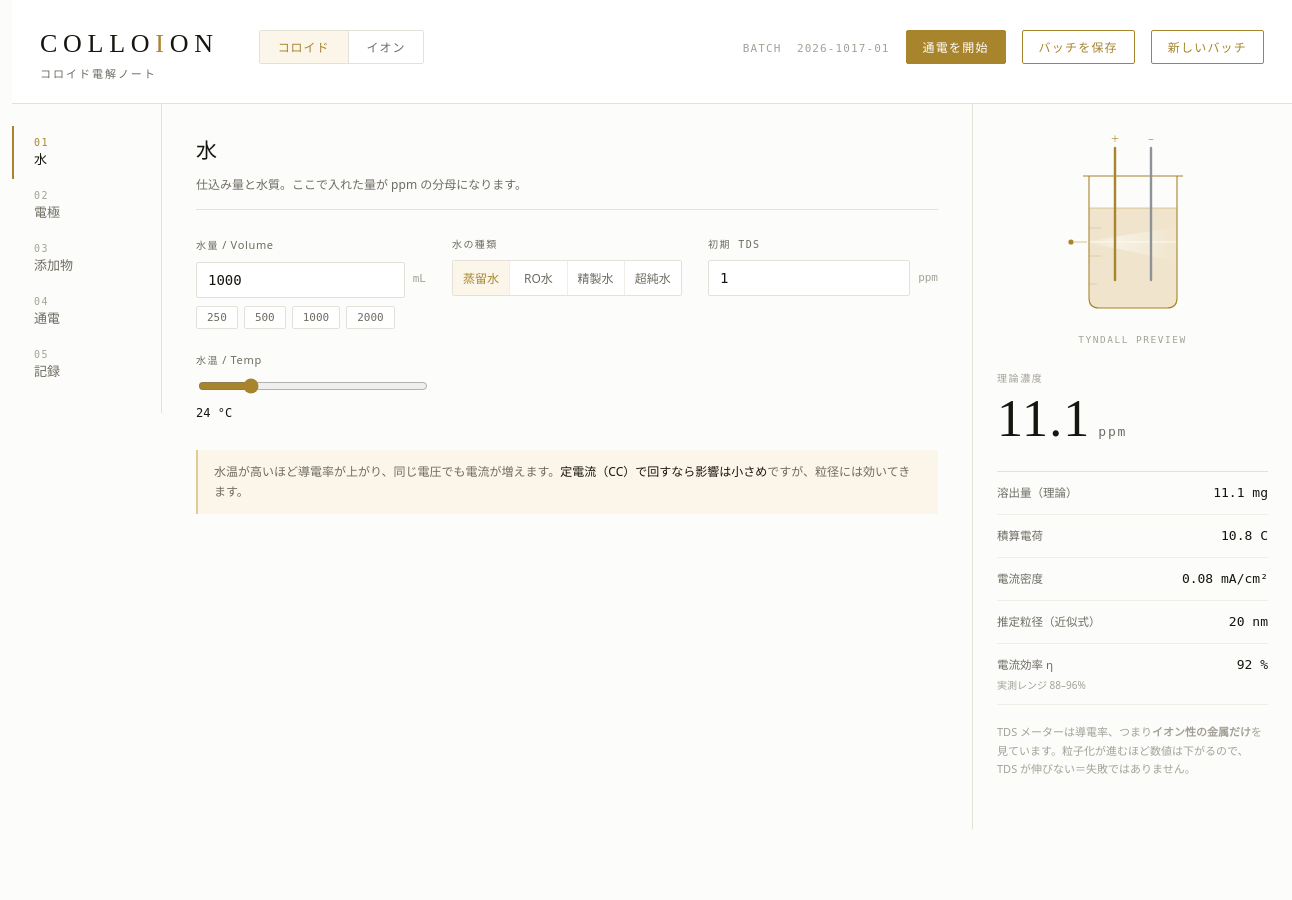
Test: App › 還元剤にコーンシロップを選ぶと、ブドウ糖換算の説明が出てモル比が出る
Click the tab "03 添加物" at (86, 258), box x1=12 y1=232 x2=161 y2=285
(page scrolled)
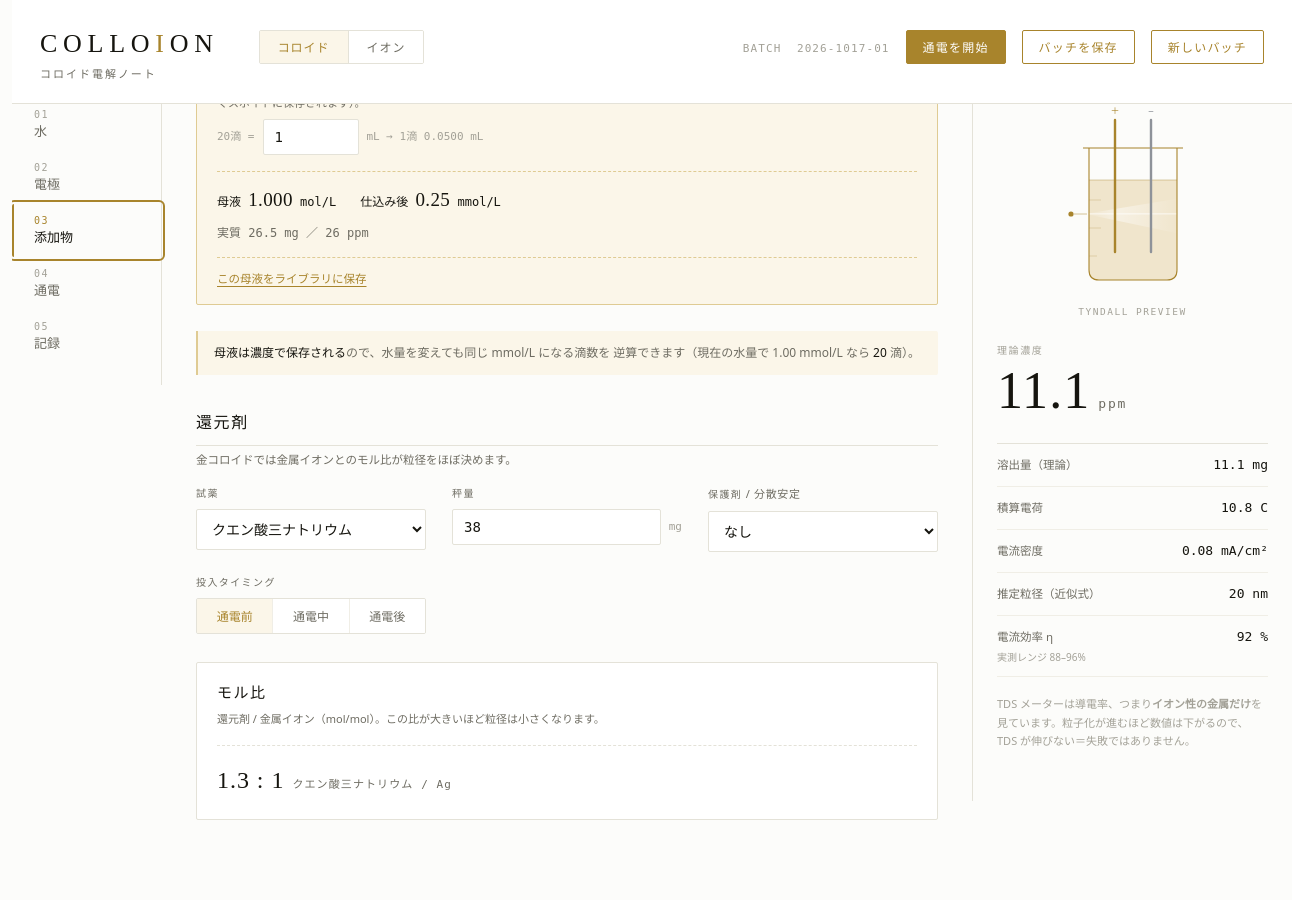
Select "コーンシロップ（Karo ライト）" in the dropdown labelled "試薬" at (311, 530), box x1=196 y1=509 x2=426 y2=550
(page scrolled)
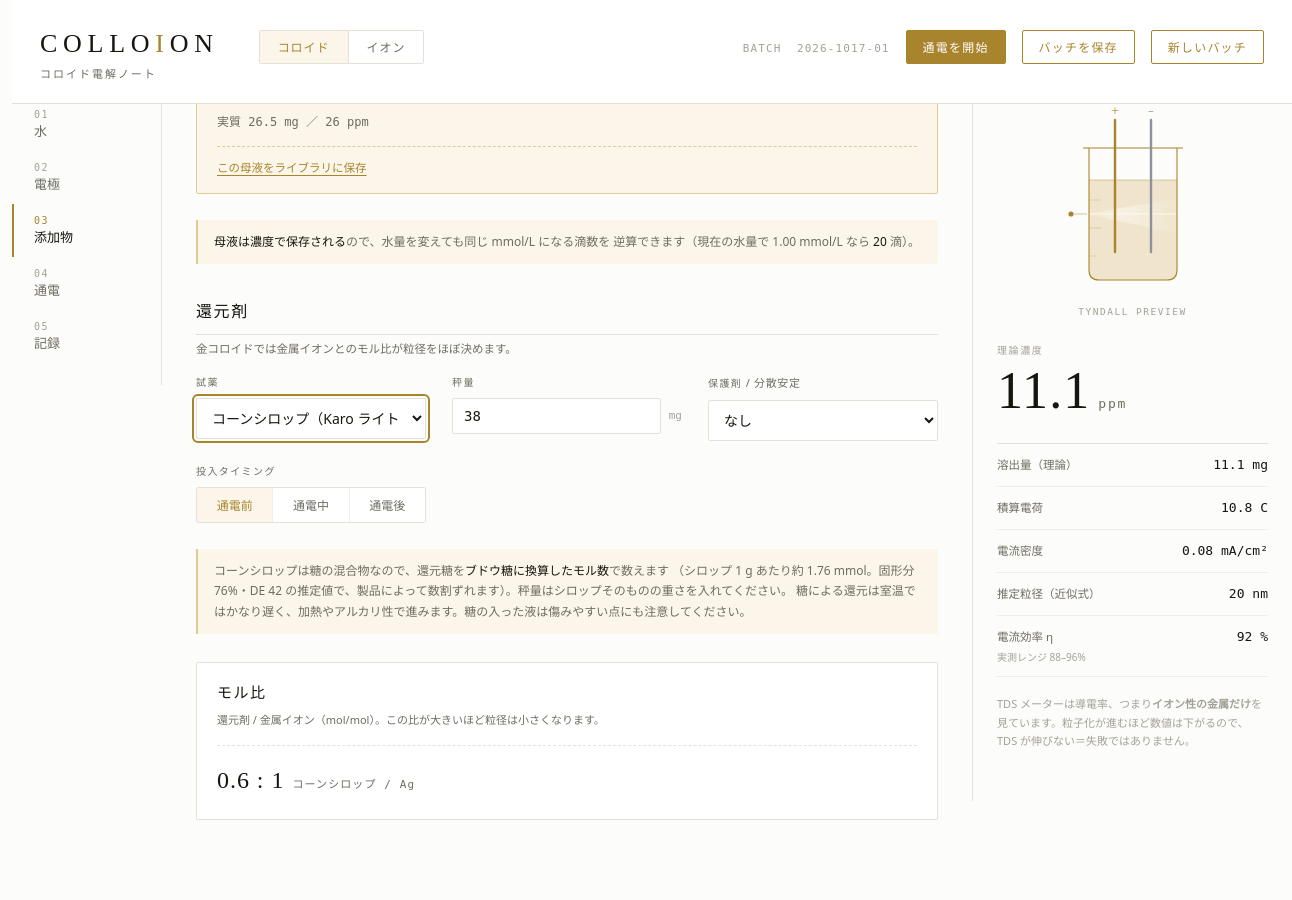
Expected: the text "ブドウ糖に換算したモル数" is shown, x1=465 y1=562 x2=609 y2=579
Expected: the text "コーンシロップ / Ag" is shown, x1=292 y1=778 x2=415 y2=791
